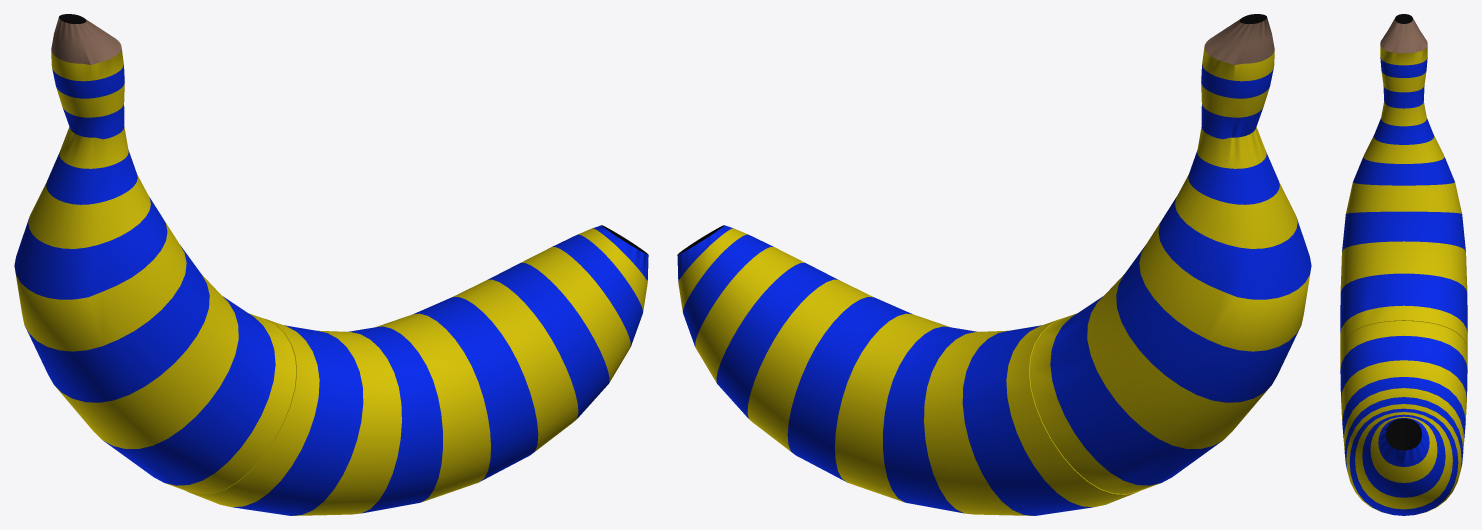
File: Fruit_Double_Banana_Sliced.fbx
3 renders of one model, left to right at view 1: azimuth 30°, elevation 25°; view 2: azimuth 150°, elevation 25°; view 3: azimuth 270°, elevation 25°, orthographic. The views are drawn at different scales.
Visible parts, largest first — view 1: Double_Banana_Bottom, Double_Banana_Top; view 2: Double_Banana_Bottom, Double_Banana_Top; view 3: Double_Banana_Top, Double_Banana_Bottom.
Part boxes in pixels (<box>): Double_Banana_Bottom: <box>187,225,648,515</box>; Double_Banana_Top: <box>14,14,296,493</box>; Double_Banana_Bottom: <box>677,225,1138,515</box>; Double_Banana_Top: <box>1029,14,1311,493</box>; Double_Banana_Top: <box>1340,14,1467,349</box>; Double_Banana_Bottom: <box>1340,321,1467,515</box>.
Bounding box in the file's own units: 263 × 227 × 70.72.
